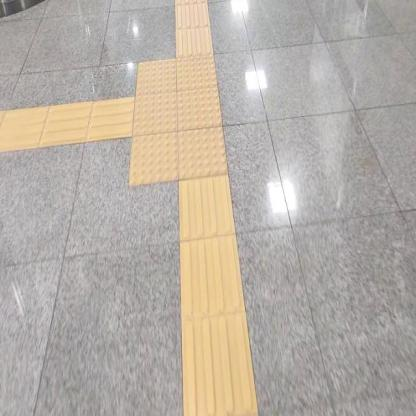podotacti: (105, 35, 241, 204), (174, 178, 262, 415), (0, 96, 131, 155), (174, 0, 215, 55)
